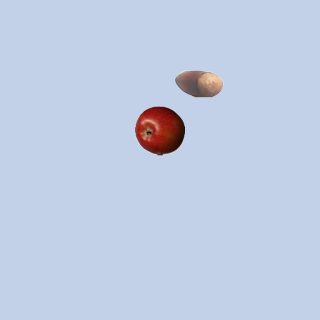Apple Braeburn: (134, 105, 184, 155)
Hazelnut: (173, 58, 223, 108)
